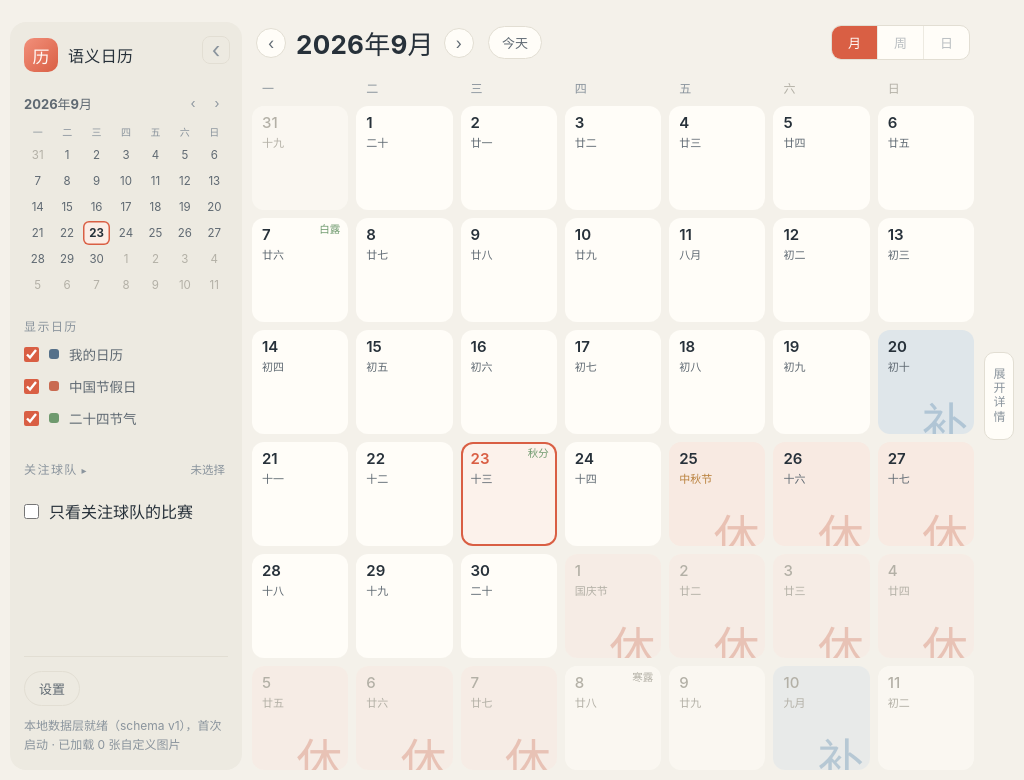
it: ICS / WebCal 订阅（SC-007 / SRC-002 / SRC-003 / SRC-004） › 手动刷新带上 ETag，304 时保留缓存并提示无变化
Check: the text "本地数据层就绪（schema v1），首次启动 · 已加载 0 张自定义图片" is shown, box left=24, top=716, right=228, bottom=754
Click the button "设置".
click(52, 688)  # box left=24, top=671, right=80, bottom=706
(page scrolled)
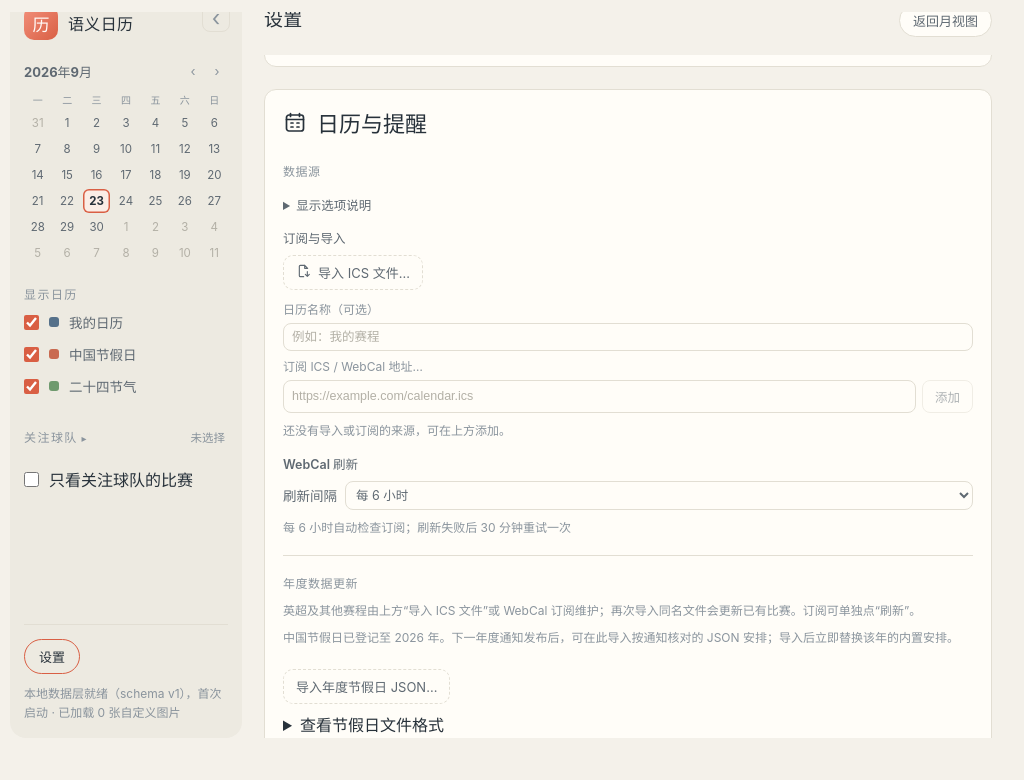
Type "https://calendar.example.com/feed.ics?token=SECRET-TOKEN" into the field labelled "订阅 ICS / WebCal 地址…".
click(600, 396); type("https://calendar.example.com/feed.ics?token=SECRET-TOKEN")  # box left=283, top=380, right=916, bottom=413
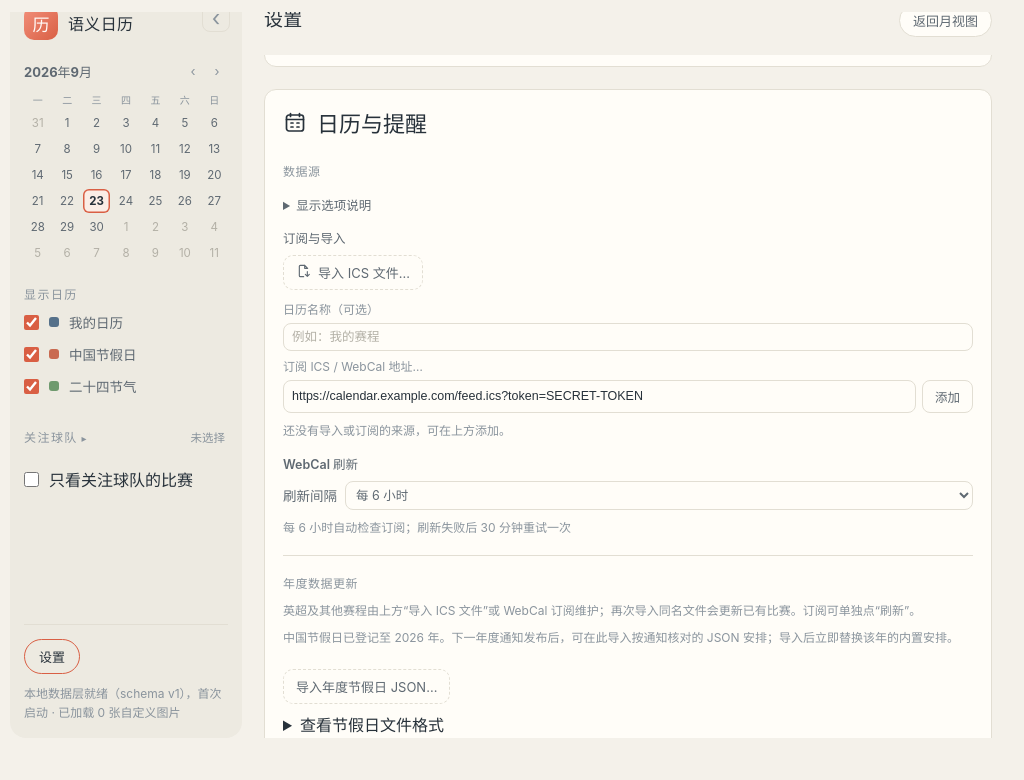
Click the button "添加".
click(948, 396)  # box left=922, top=380, right=973, bottom=413
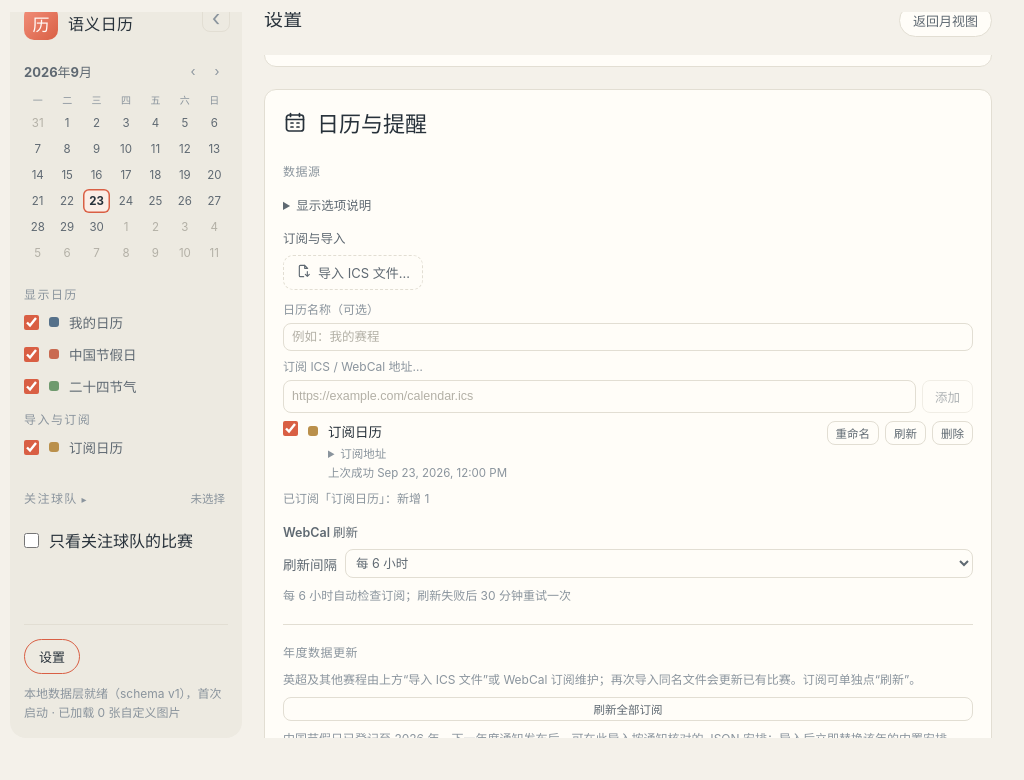
Check: the text "订阅日历" below "订阅 ICS / WebCal 地址…" is shown, box left=328, top=424, right=382, bottom=440
Click the button "刷新".
click(906, 433)  # box left=885, top=421, right=926, bottom=445
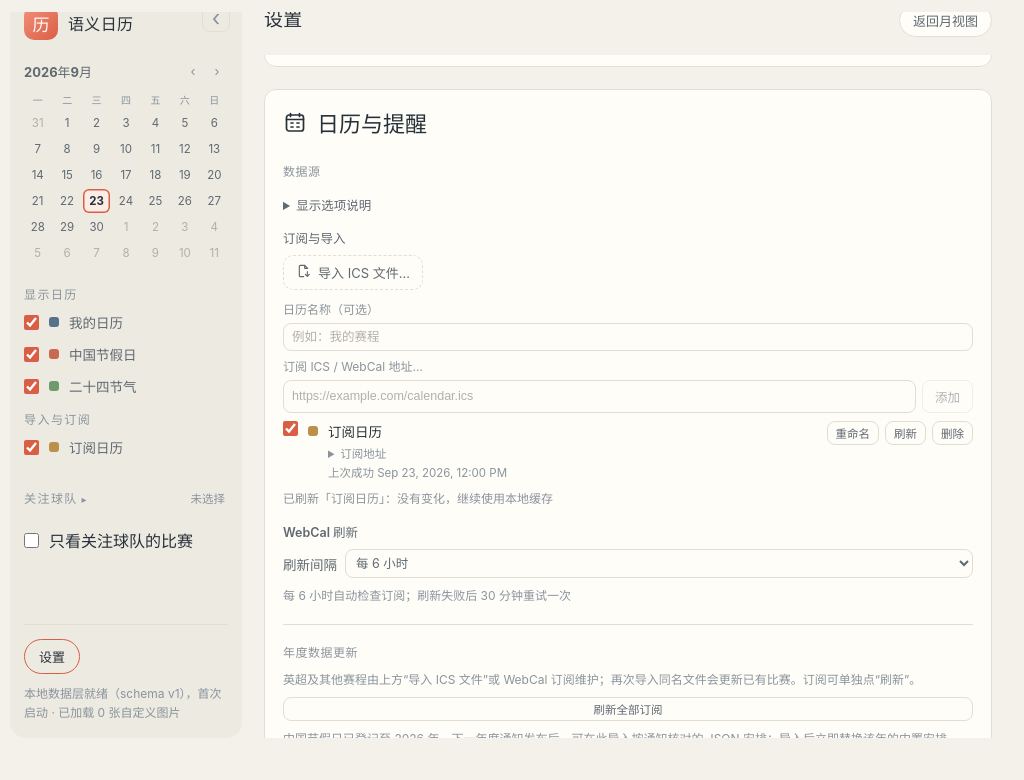
Check: the text "已刷新「订阅日历」：没有变化，继续使用本地缓存" is shown, box left=283, top=491, right=553, bottom=506
